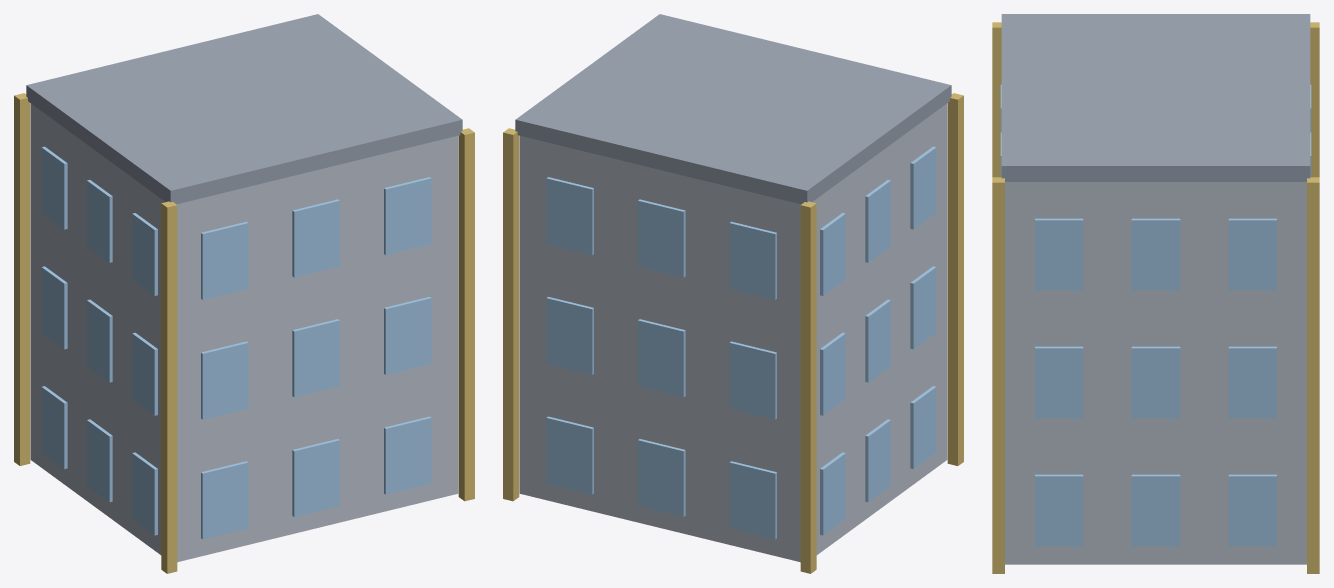
The model's file is residential_b.glb.
3 views of the same model, side by side, from view 1: azimuth 30°, elevation 25°; view 2: azimuth 150°, elevation 25°; view 3: azimuth 270°, elevation 25° (orthographic). The views are drawn at different scales.
Size of the model in its own units: 7.53 by 8.84 by 6.49.
